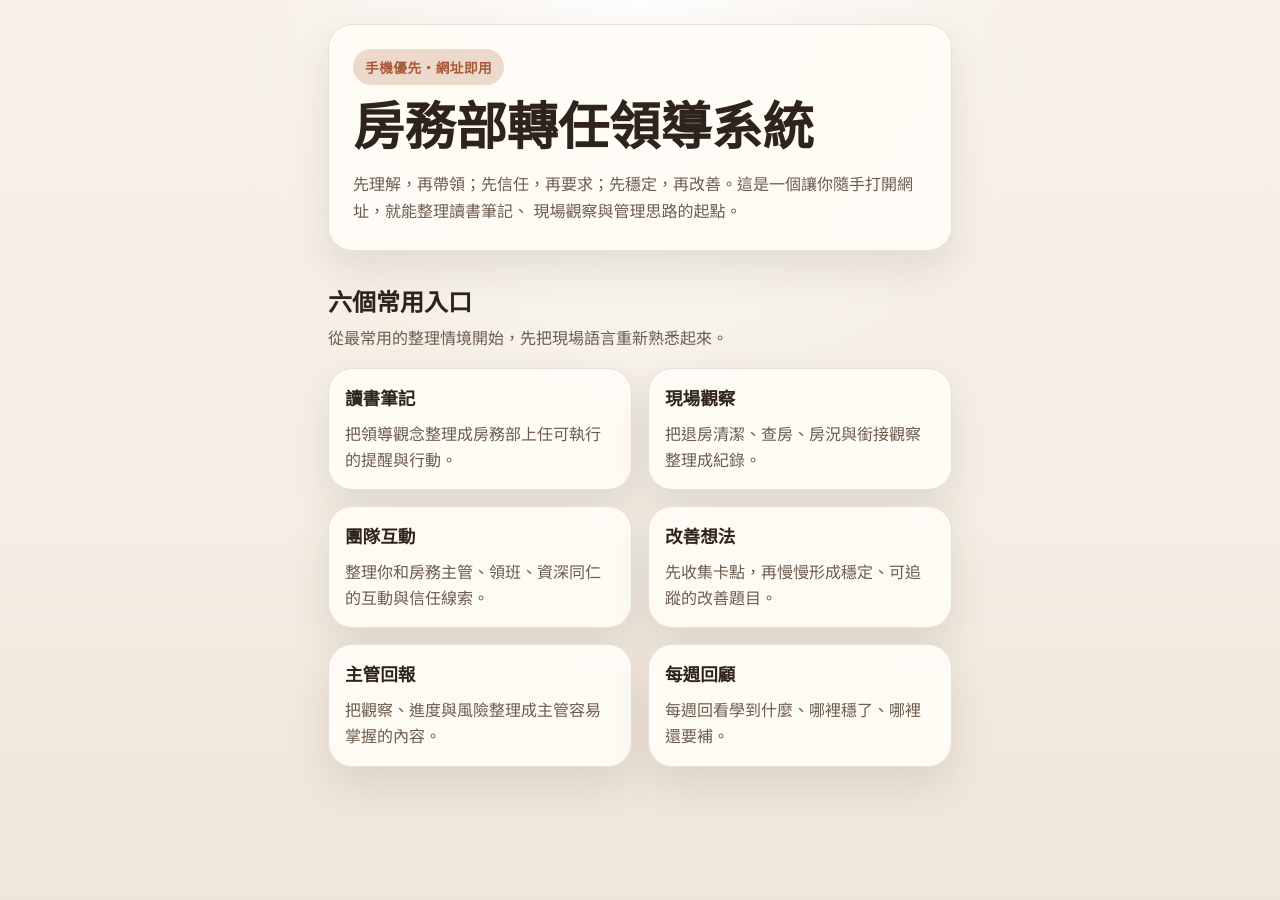
Test: EntryFlow › supports home to entry, mode toggle, and submit to review
The width and height of the screenshot is (1280, 900).
Click the link "讀書筆記 把領導觀念整理成房務部上任可執行的提醒與行動。".
click(480, 429)  # box [328,368,632,490]
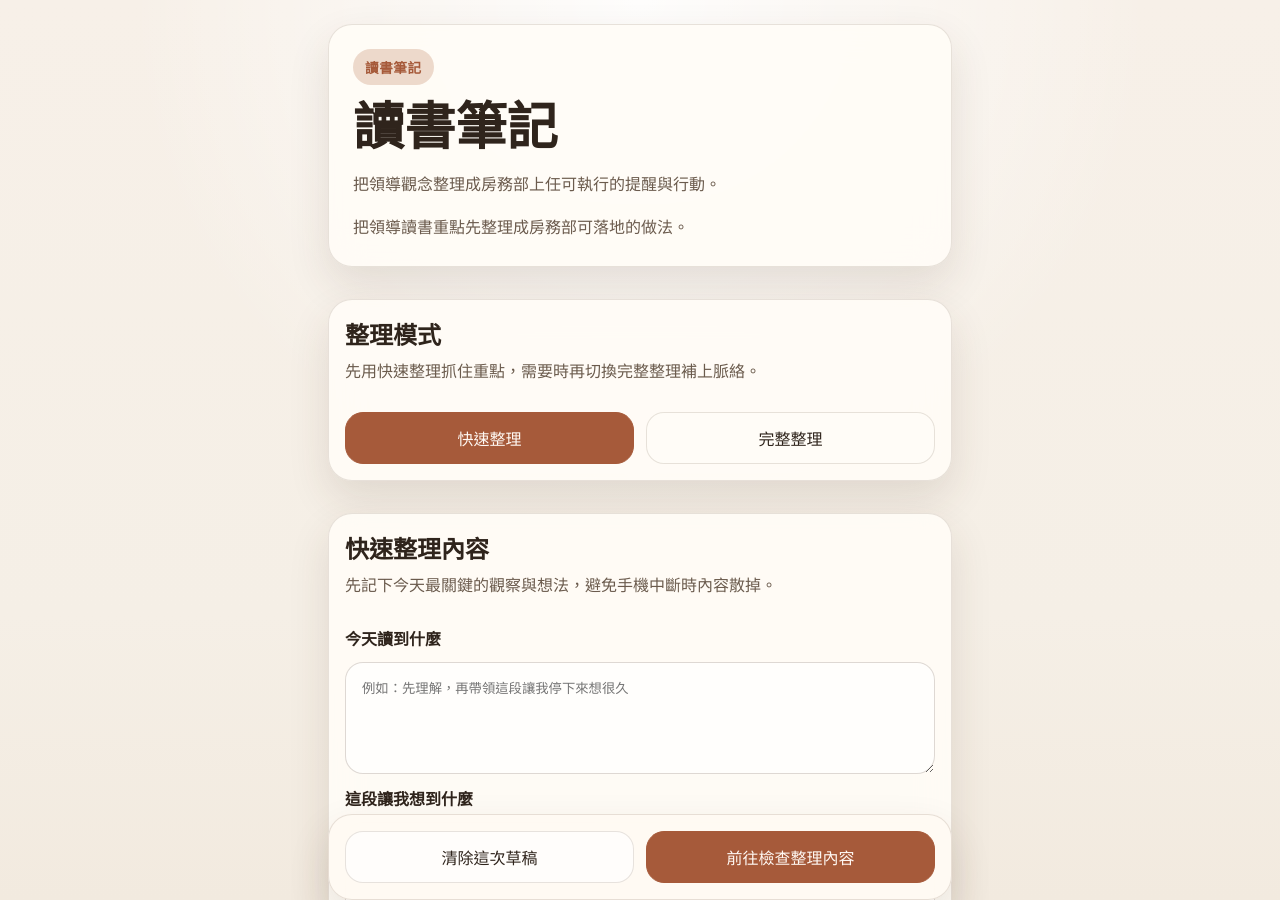
expect the field labelled "書中觀念" is not shown: met
expect the heading "讀書筆記" is shown: met, box [353,99,558,156]
expect the text box labelled "今天讀到什麼" is shown: met, box [345,662,935,774]
Click the button "完整整理".
click(790, 438)  # box [646,412,935,464]
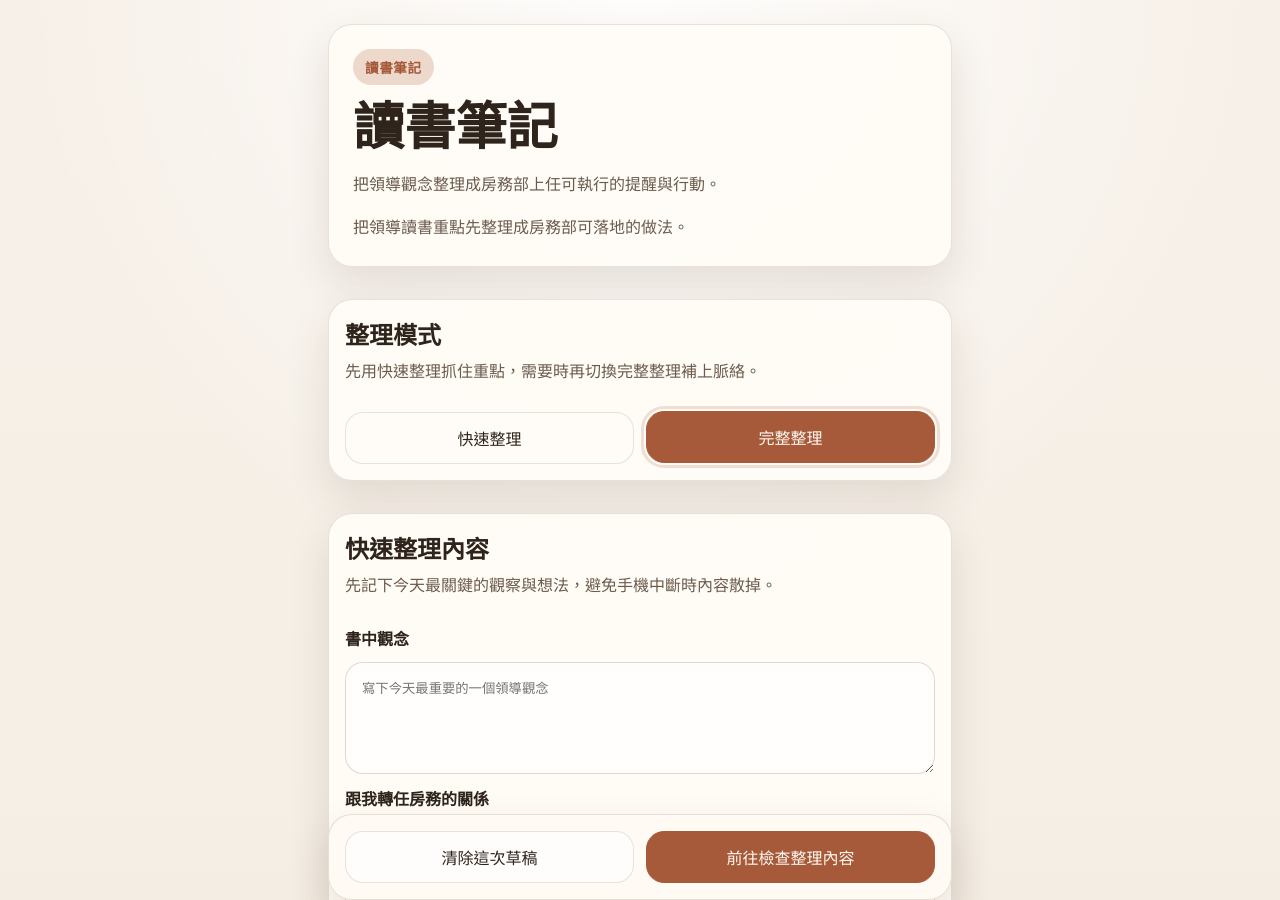
expect the text box labelled "書中觀念" is shown: met, box [345,662,935,774]
expect the text labelled "今天讀到什麼" is gone: met
Click the button "快速整理".
click(490, 438)  # box [345,412,634,464]
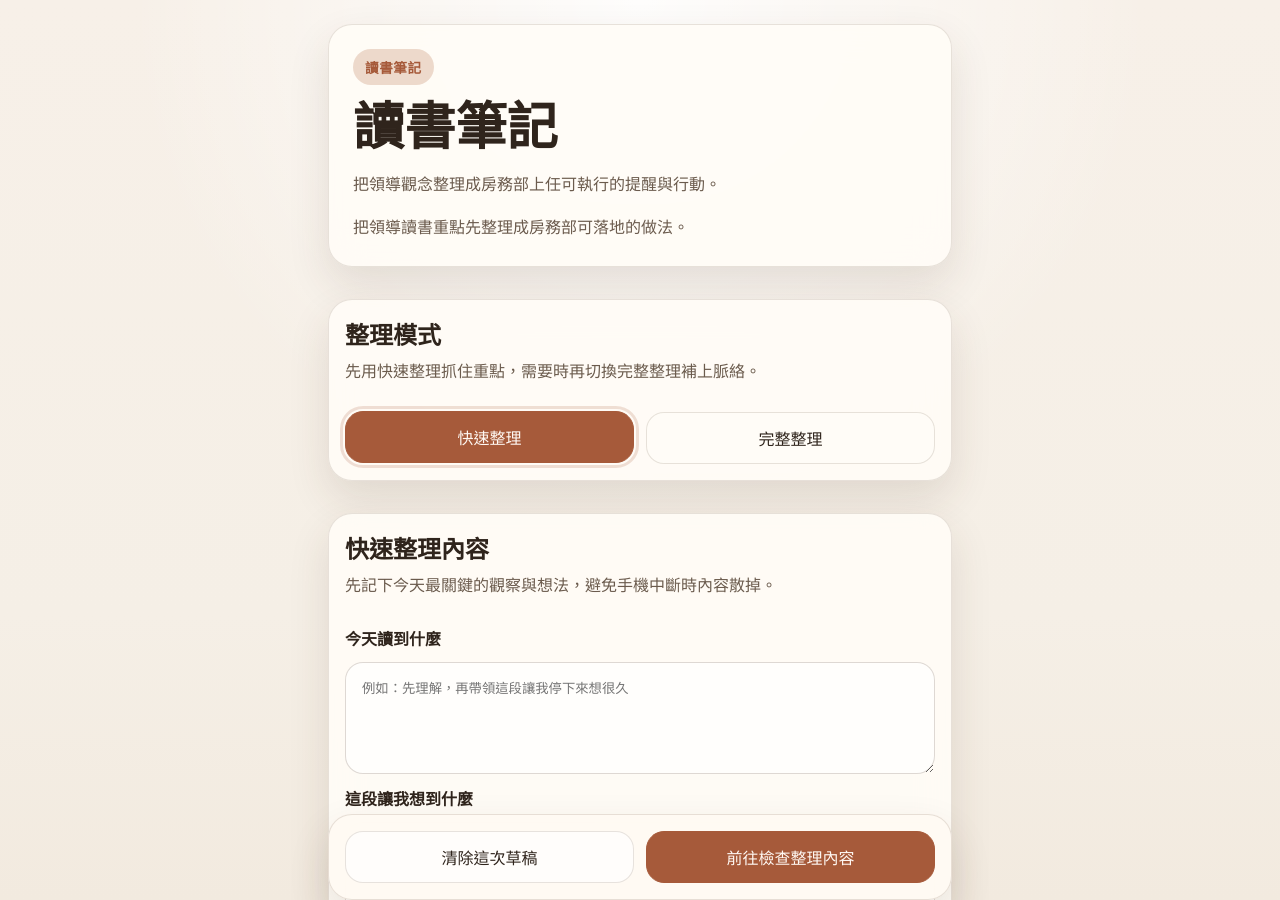
Type "先理解，再帶領" into the text box labelled "今天讀到什麼".
click(640, 718); type("先理解，再帶領")  # box [345,662,935,774]
(page scrolled)
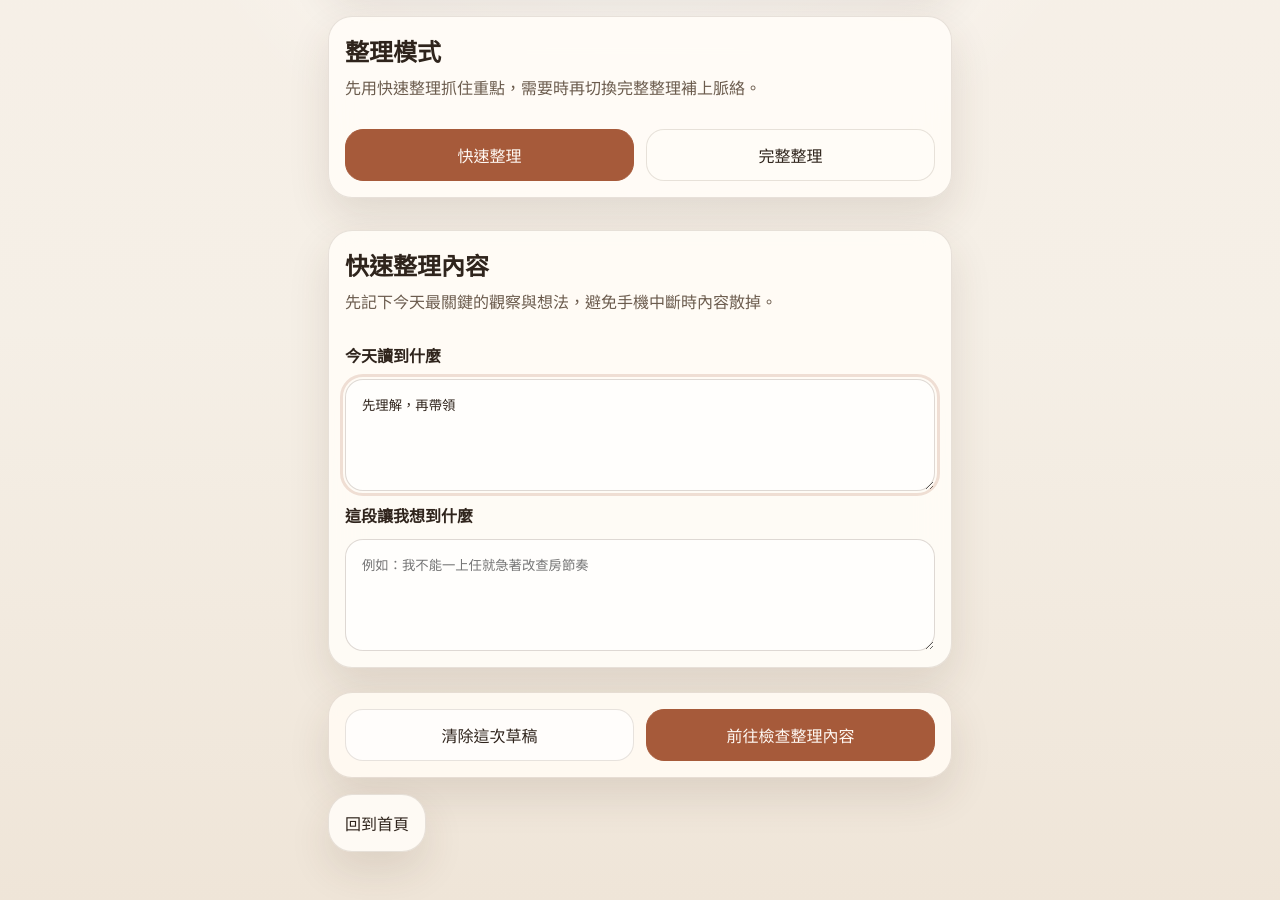
Type "上任初期先跟房與觀察查房節奏" into the text box labelled "這段讓我想到什麼".
click(640, 595); type("上任初期先跟房與觀察查房節奏")  # box [345,539,935,651]
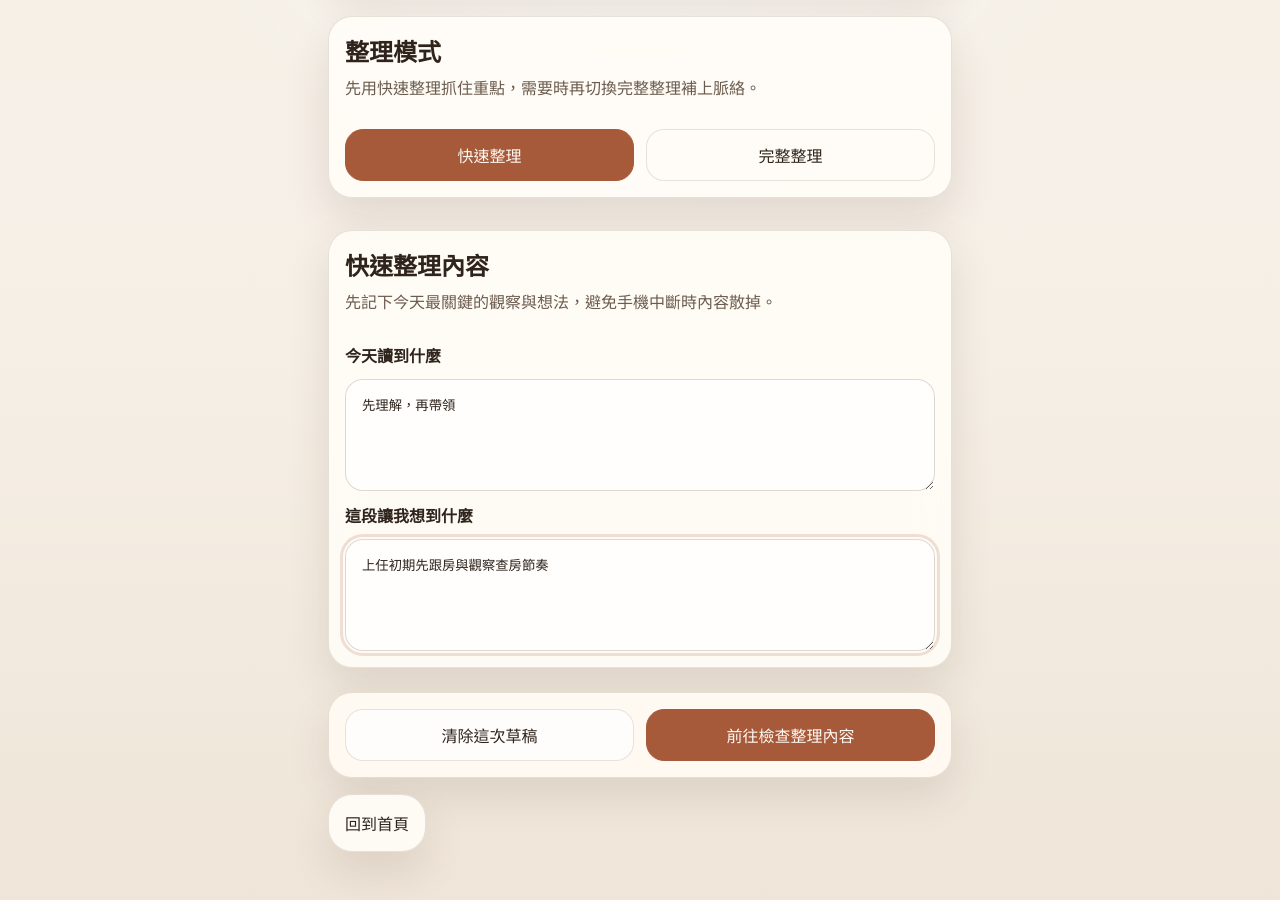
Click the button "前往檢查整理內容".
click(790, 735)  # box [646,709,935,761]
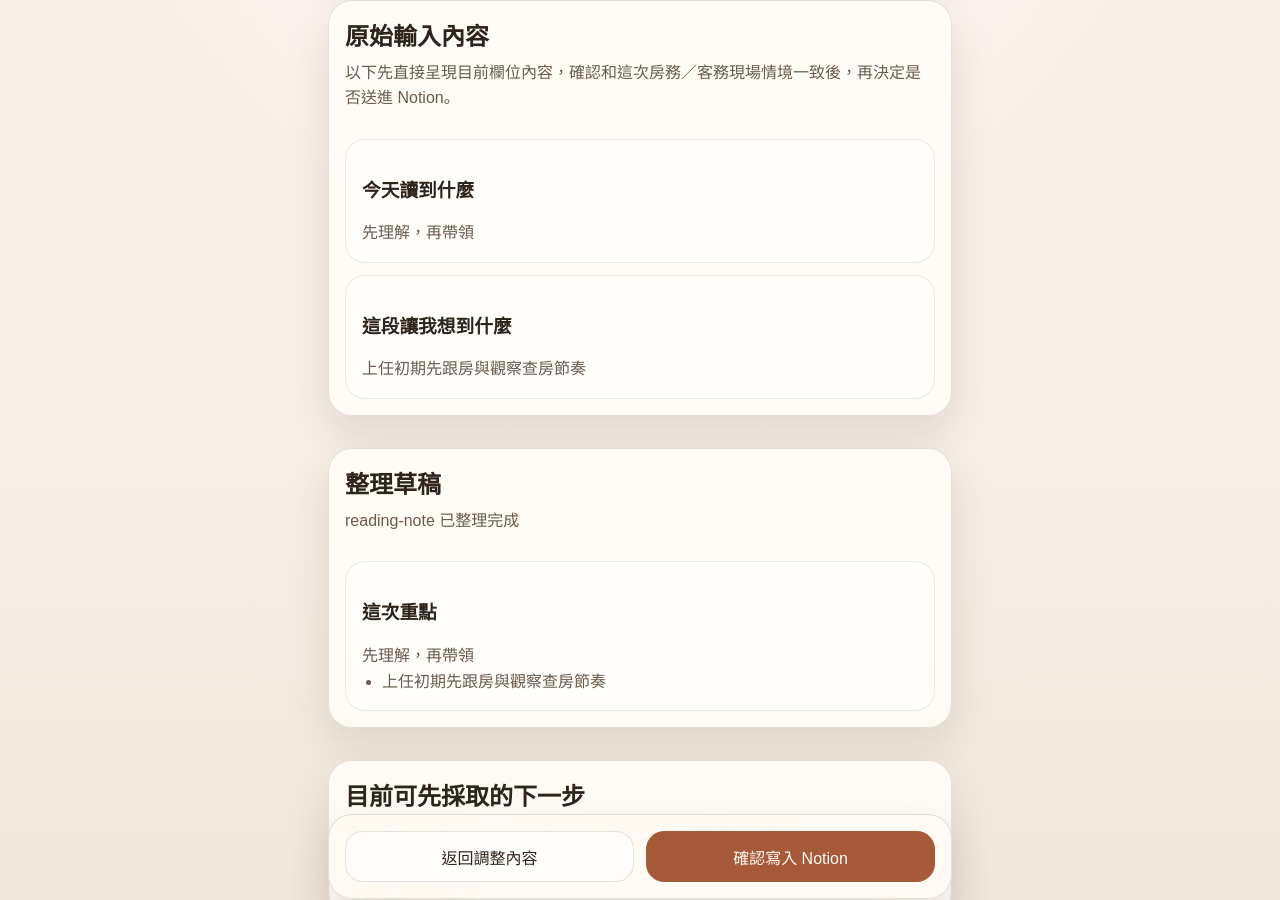
expect the heading "整理草稿" is shown: met, box [345,471,441,498]
expect the text "reading-note 已整理完成" is shown: met, box [345,512,519,529]
expect the heading "這次重點" is shown: met, box [362,602,437,623]
